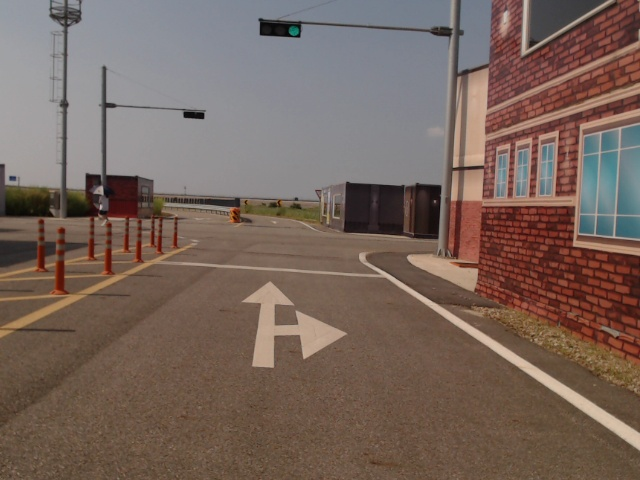green_3: (259, 21, 301, 38)
